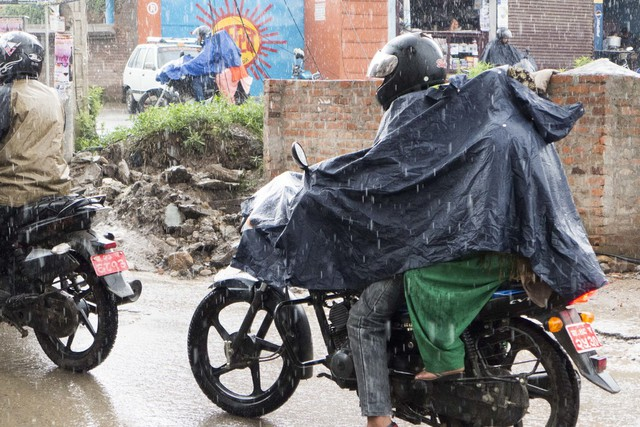helmet: (367, 37, 450, 94), (2, 31, 48, 78)
